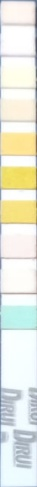color 1: (2, 4, 33, 23)
color 10: (2, 308, 34, 327)
color 2: (2, 35, 33, 53)
color 3: (2, 69, 34, 86)
color 4: (2, 100, 34, 119)
color 5: (2, 134, 34, 154)
color 6: (2, 169, 34, 187)
color 7: (2, 202, 33, 221)
color 8: (2, 237, 33, 256)
color 9: (2, 271, 35, 291)
